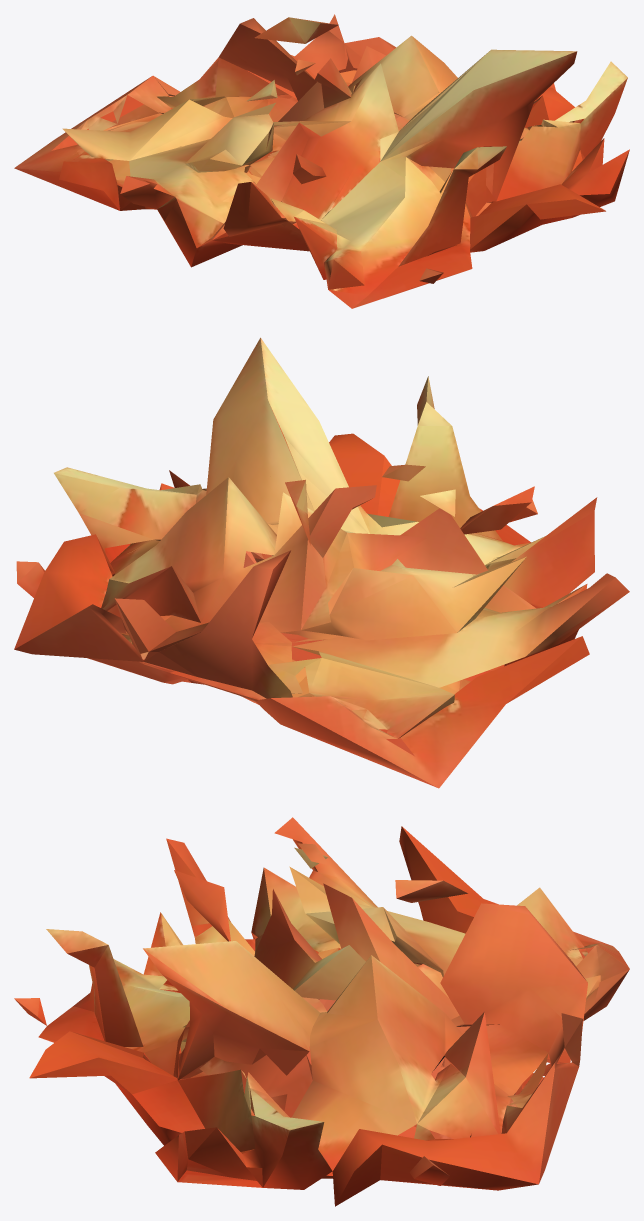
Rendered from 烈焰燃燒.glb.
The picture shows the model from 3 angles, top to bottom: view 1: azimuth 30°, elevation 25°; view 2: azimuth 150°, elevation 25°; view 3: azimuth 270°, elevation 25°; orthographic projection. The views are drawn at different scales.
Parts seen in each view (by area): view 1: geometry_0; view 2: geometry_0; view 3: geometry_0.
Boxes of the visible parts, <box> form: geometry_0: <box>14,14,629,308</box>; geometry_0: <box>14,337,629,788</box>; geometry_0: <box>14,817,629,1206</box>.
Size of the model in its own units: 0.988 by 0.34 by 0.86.
Materials: 1 (1 with a texture image).
